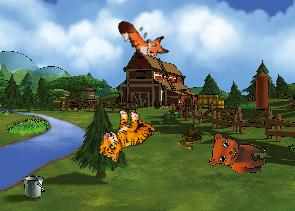bear: (209, 132, 267, 173)
fox: (114, 7, 172, 69)
tiger: (94, 103, 158, 171)
